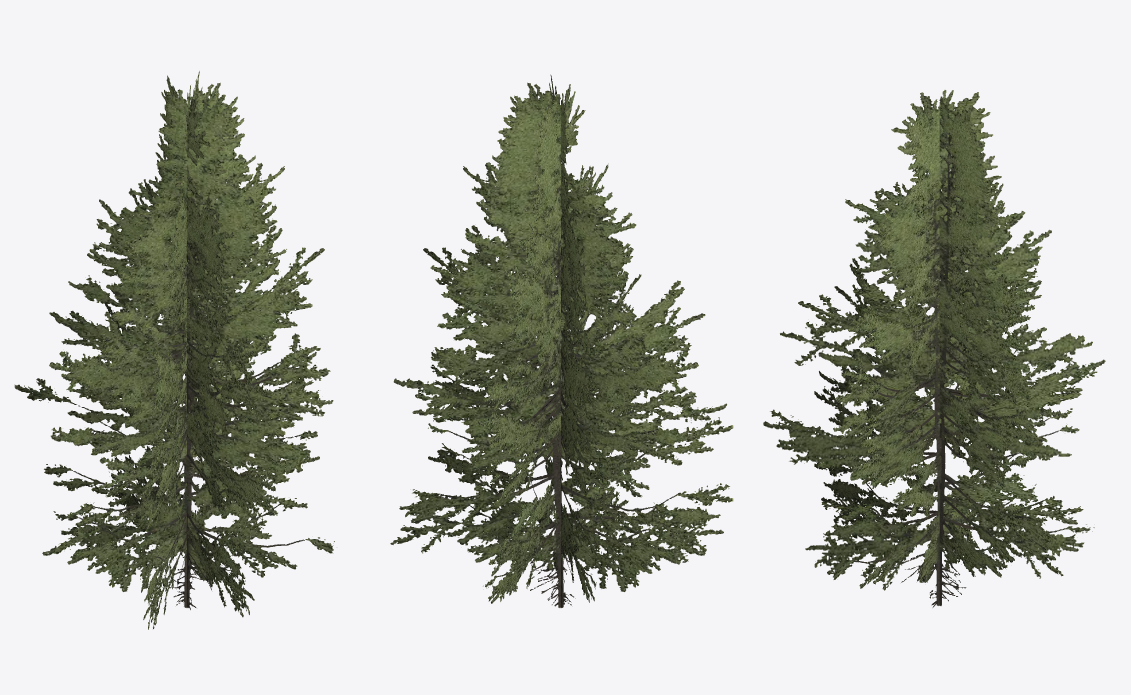
The model's file is firsap_a_bb.glb.
The picture shows the model from 3 angles, left to right: view 1: azimuth 30°, elevation 25°; view 2: azimuth 150°, elevation 25°; view 3: azimuth 270°, elevation 25°; orthographic projection.
Visible parts, largest first — view 1: firsap_a_billboard; view 2: firsap_a_billboard; view 3: firsap_a_billboard.
Boxes of the visible parts, box(x1,y1,x2,y2) form: firsap_a_billboard: box(14, 71, 334, 629); firsap_a_billboard: box(390, 74, 733, 607); firsap_a_billboard: box(763, 90, 1105, 607).
Bounding box in the file's own units: 5.46 × 8.79 × 5.46.
Materials: 1 (1 with a texture image).
